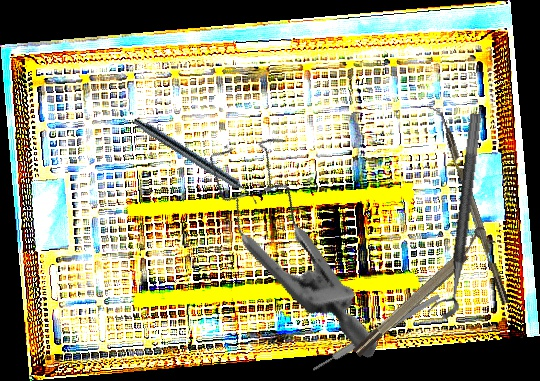Chopper: (426, 101, 510, 308)
Fixation Ring: (345, 224, 497, 360), (427, 110, 483, 322)
Handpiece: (129, 115, 264, 206)
Scalpel Handle: (310, 293, 442, 373)
Speculum: (161, 114, 440, 360)
